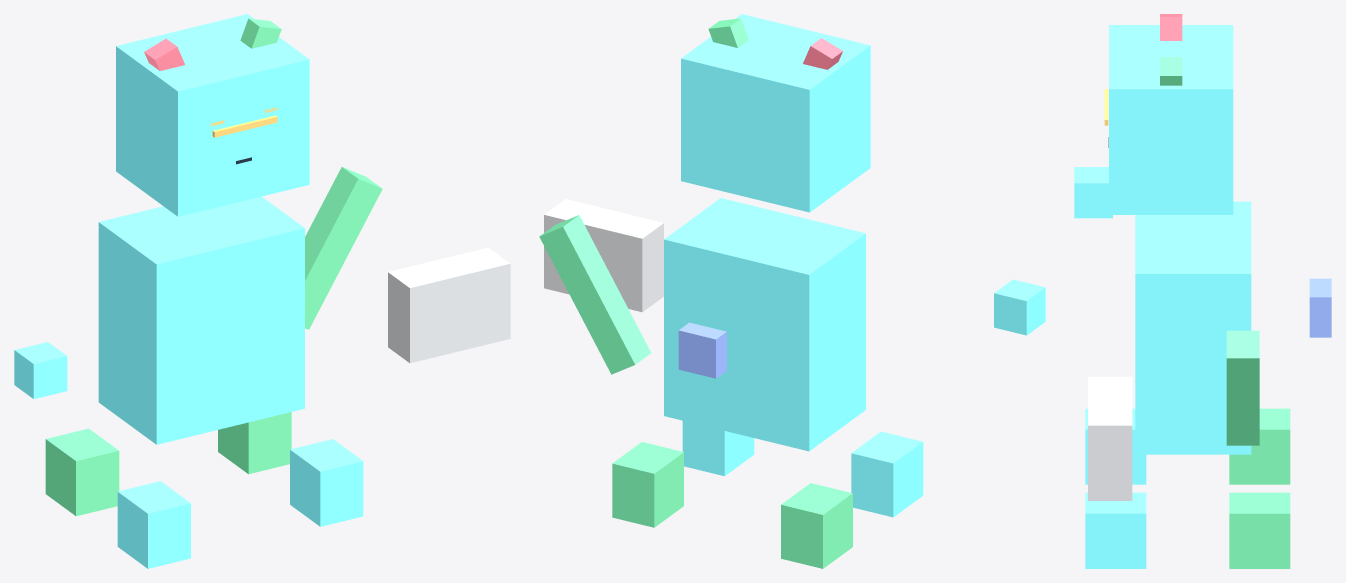
File: purrtocol.glb
3 views of the same model, side by side, from view 1: azimuth 30°, elevation 25°; view 2: azimuth 150°, elevation 25°; view 3: azimuth 270°, elevation 25° (orthographic). The views are drawn at different scales.
Visible parts, largest first — view 1: body, head, snapshot_prop, tail, paw_BL, paw_FL, paw_FR, paw_BR, packet_prop, ear_R, ear_L; view 2: body, head, tail, snapshot_prop, paw_FL, paw_BR, paw_BL, paw_FR, packet_prop, transport_lamp, ear_R, ear_L; view 3: body, head, snapshot_prop, paw_BR, paw_FR, tail, paw_BL, packet_prop, transport_lamp, paw_FL, ear_R, ear_L.
Boxes of the visible parts, <box> form: body: <box>98,196,304,444</box>; head: <box>116,14,309,216</box>; snapshot_prop: <box>388,247,510,363</box>; tail: <box>305,167,382,329</box>; paw_BL: <box>45,428,119,516</box>; paw_FL: <box>117,481,190,568</box>; paw_FR: <box>290,439,363,526</box>; paw_BR: <box>218,412,291,474</box>; packet_prop: <box>14,342,67,398</box>; ear_R: <box>240,18,281,48</box>; ear_L: <box>144,38,184,70</box>; body: <box>664,198,865,451</box>; head: <box>681,14,870,212</box>; tail: <box>539,215,651,374</box>; snapshot_prop: <box>544,199,663,312</box>; paw_FL: <box>851,431,923,517</box>; paw_BR: <box>612,442,683,527</box>; paw_BL: <box>781,483,852,568</box>; paw_FR: <box>682,421,754,476</box>; packet_prop: <box>994,279,1045,335</box>; transport_lamp: <box>678,322,726,378</box>; ear_R: <box>708,18,748,47</box>; ear_L: <box>803,38,842,69</box>; body: <box>1135,201,1251,454</box>; head: <box>1109,25,1233,214</box>; snapshot_prop: <box>1088,376,1132,500</box>; paw_BR: <box>1229,492,1290,568</box>; paw_FR: <box>1085,492,1146,568</box>; tail: <box>1226,330,1259,445</box>; paw_BL: <box>1229,408,1290,484</box>; packet_prop: <box>1074,167,1112,218</box>; transport_lamp: <box>1309,278,1331,337</box>; paw_FL: <box>1085,408,1146,484</box>; ear_R: <box>1160,57,1182,85</box>; ear_L: <box>1160,14,1182,40</box>.
Size of the model in its own units: 2.02 by 1.91 by 0.93.
